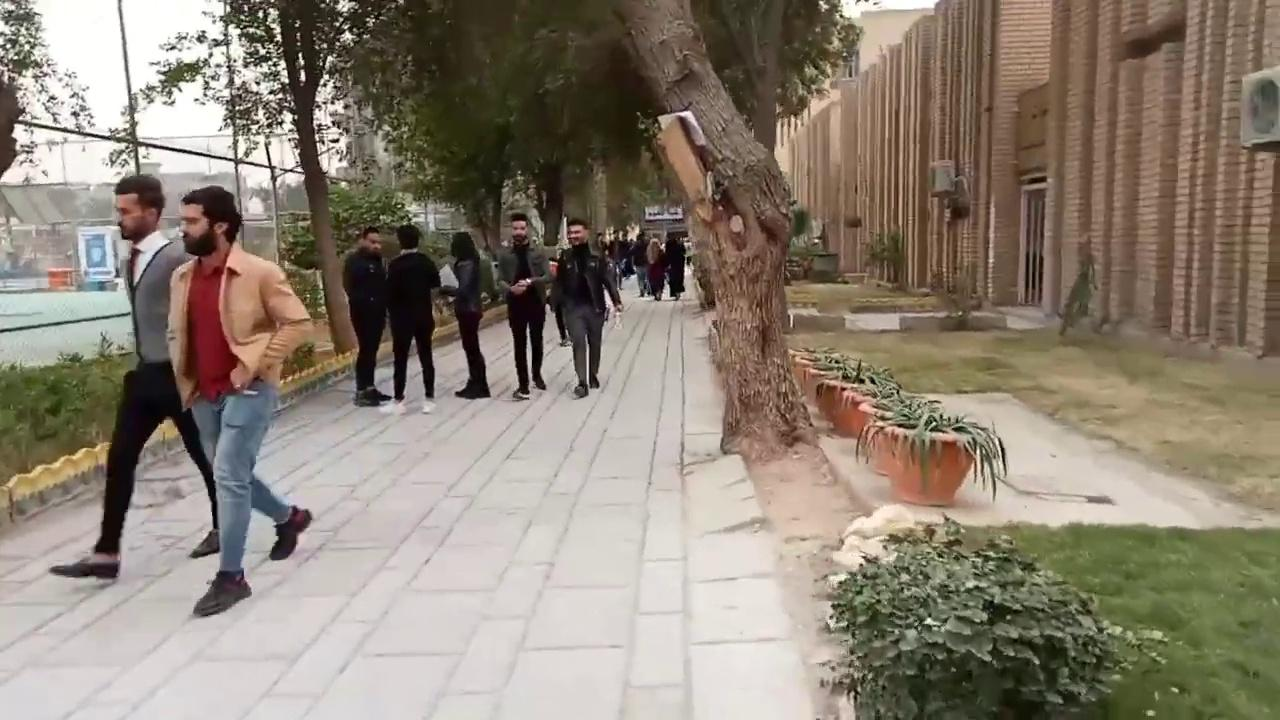person: (48, 174, 220, 579), (165, 184, 314, 616), (549, 217, 624, 398), (380, 224, 441, 415), (497, 212, 553, 400), (341, 225, 393, 406), (438, 231, 491, 398)
tree: (330, 0, 846, 456), (600, 1, 853, 458), (136, 0, 404, 358), (347, 0, 645, 300), (814, 513, 1168, 718), (787, 342, 1007, 506), (854, 392, 1006, 506), (0, 0, 94, 182)
